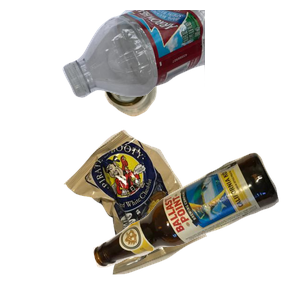glass: (91, 150, 300, 300)
metal: (102, 60, 252, 169)
plastic: (60, 10, 300, 100)
trash: (61, 127, 260, 300)
